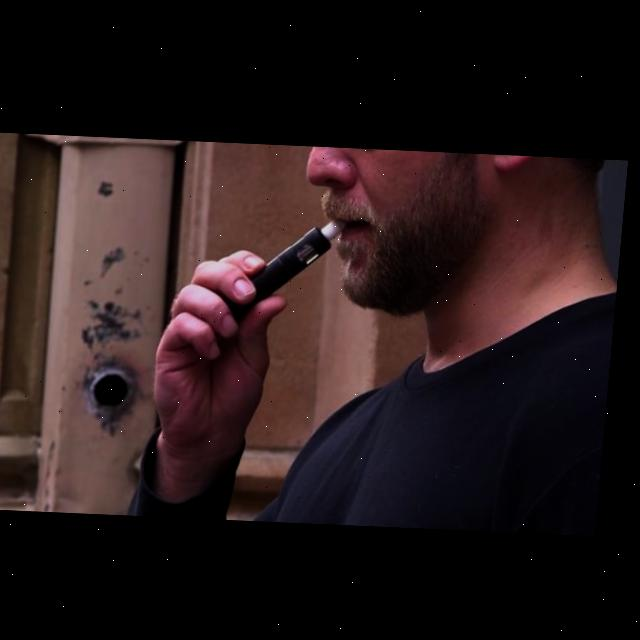vape: (230, 212, 352, 320)
